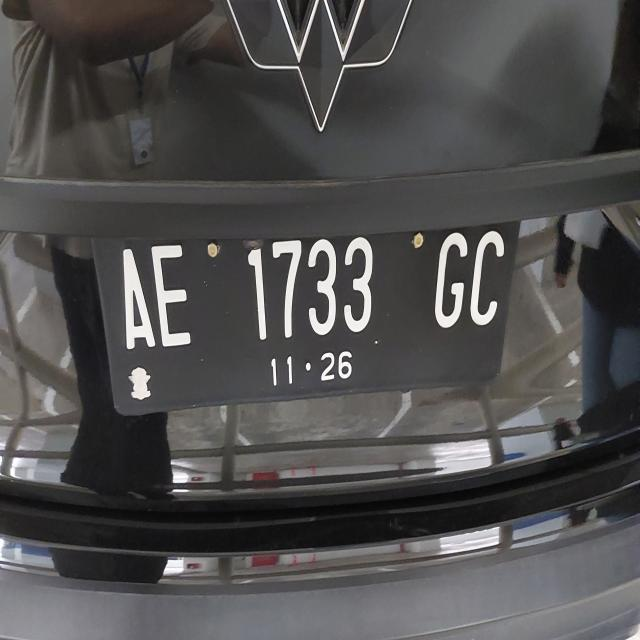1: (240, 246, 272, 352)
3: (341, 234, 376, 346), (306, 237, 340, 344)
7: (268, 238, 307, 342)
A: (115, 248, 158, 352)
C: (471, 228, 507, 330)
E: (148, 241, 196, 350)
G: (433, 230, 469, 336)
